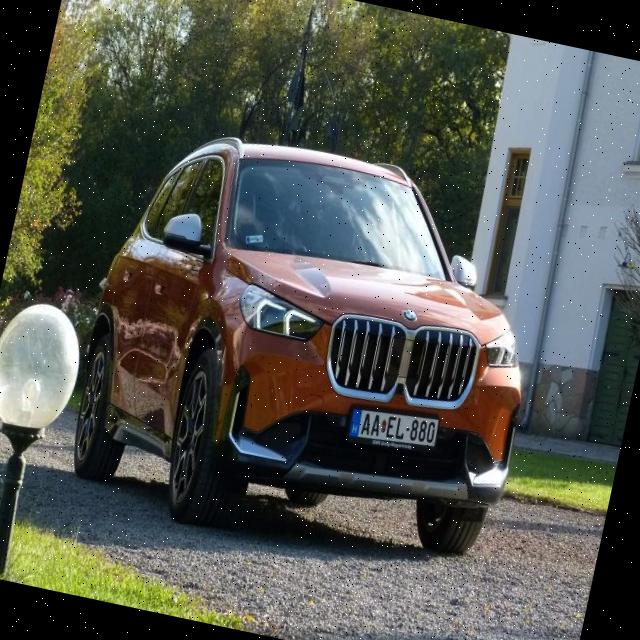licence: (344, 394, 444, 460)
